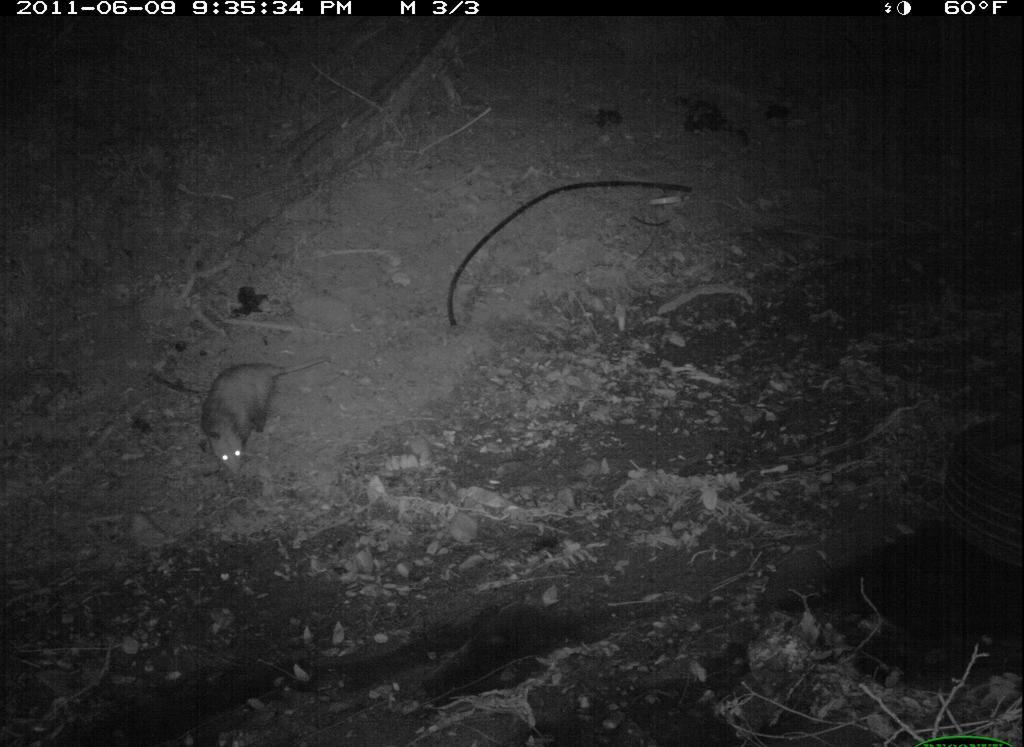opossum: (198, 351, 309, 483)
